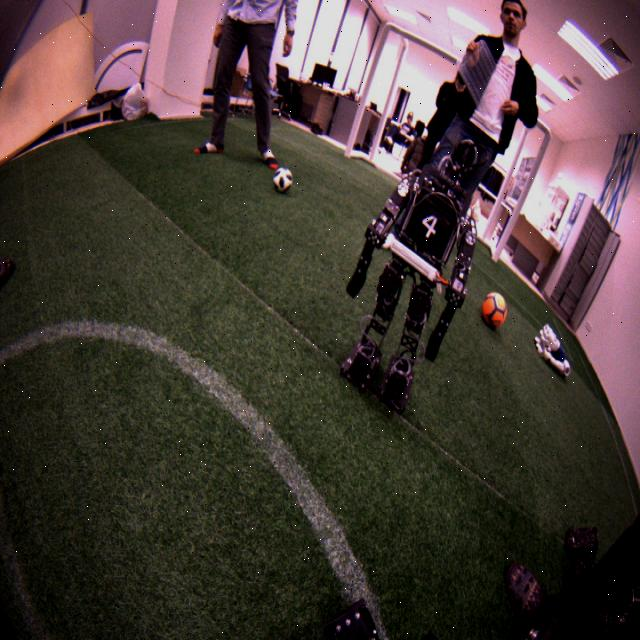ball: (481, 293, 508, 329), (274, 168, 293, 192)
goalpost: (490, 128, 556, 262), (342, 21, 393, 160)
